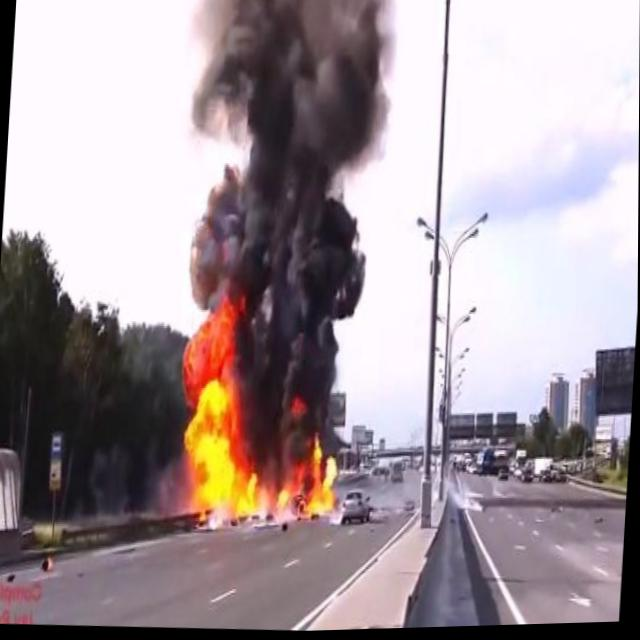fire: (166, 285, 352, 535)
